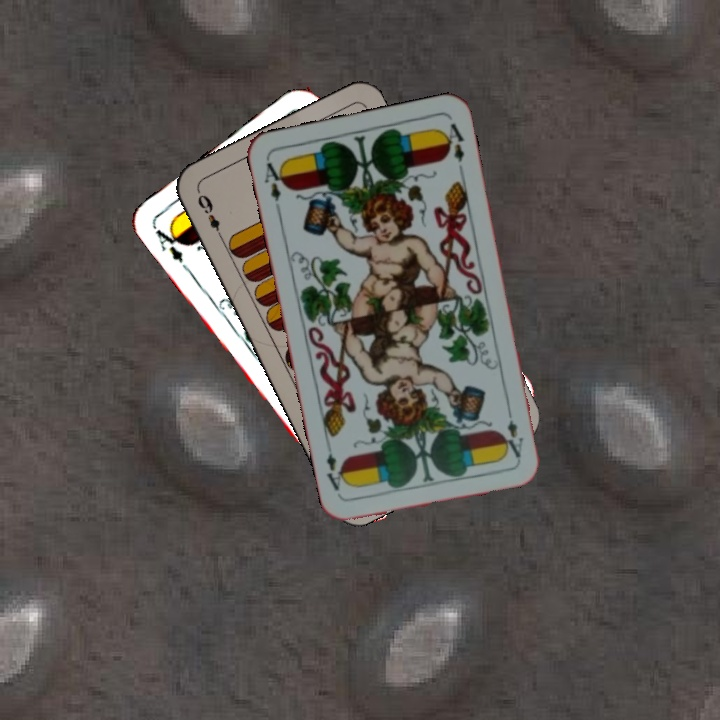E9: (193, 190, 226, 243)
EA: (149, 222, 187, 266), (260, 158, 289, 215), (502, 402, 527, 461)
